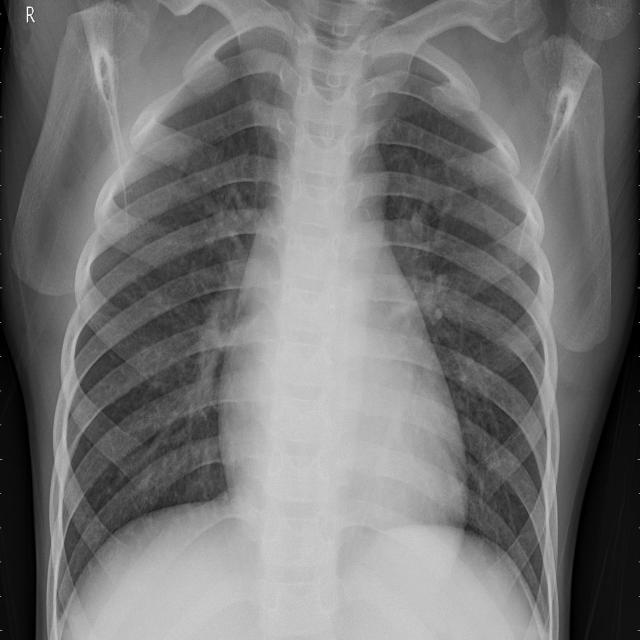no-pneumonia: (53, 27, 295, 618), (372, 51, 559, 629)
